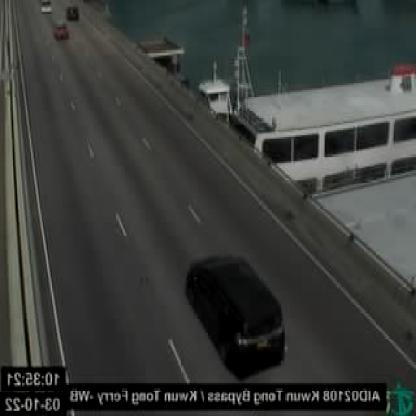Car: (186, 255, 287, 374), (53, 21, 70, 40)
